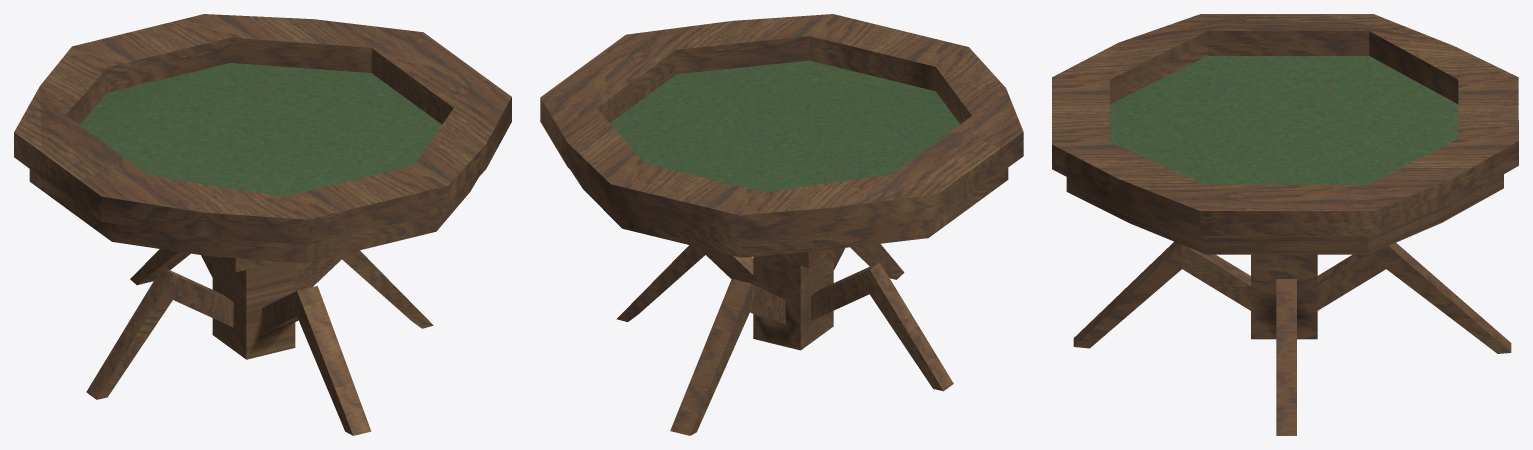
Rendered from poker_table.glb.
The picture shows the model from 3 angles, left to right: view 1: azimuth 30°, elevation 25°; view 2: azimuth 150°, elevation 25°; view 3: azimuth 270°, elevation 25°; orthographic projection. The views are drawn at different scales.
Visible parts, largest first — view 1: pCube1; view 2: pCube1; view 3: pCube1.
Part boxes in pixels (x1,y1,x2,y2): pCube1: (14,14,511,435); pCube1: (540,14,1023,435); pCube1: (1052,14,1518,435).
Bounding box in the file's own units: 4.26 × 2.53 × 4.27.
Materials: 1 (1 with a texture image).
